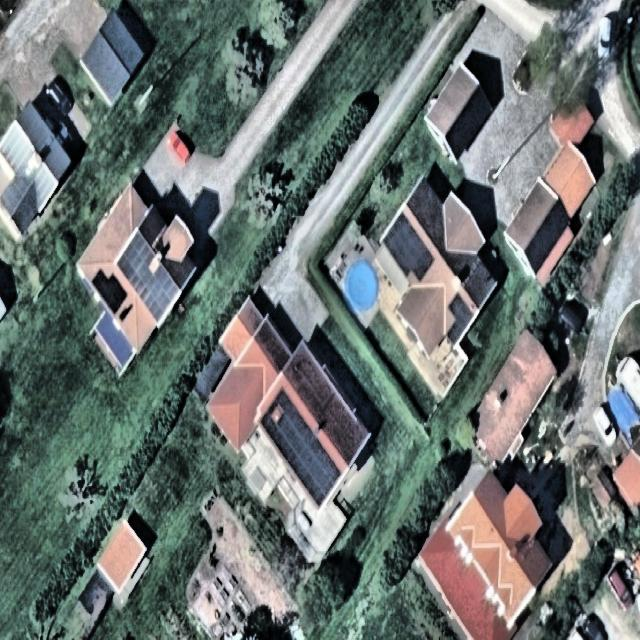roof_pv: (279, 439, 341, 507), (382, 210, 438, 282), (258, 388, 316, 442), (137, 264, 181, 324), (113, 230, 152, 289), (444, 292, 477, 346)
